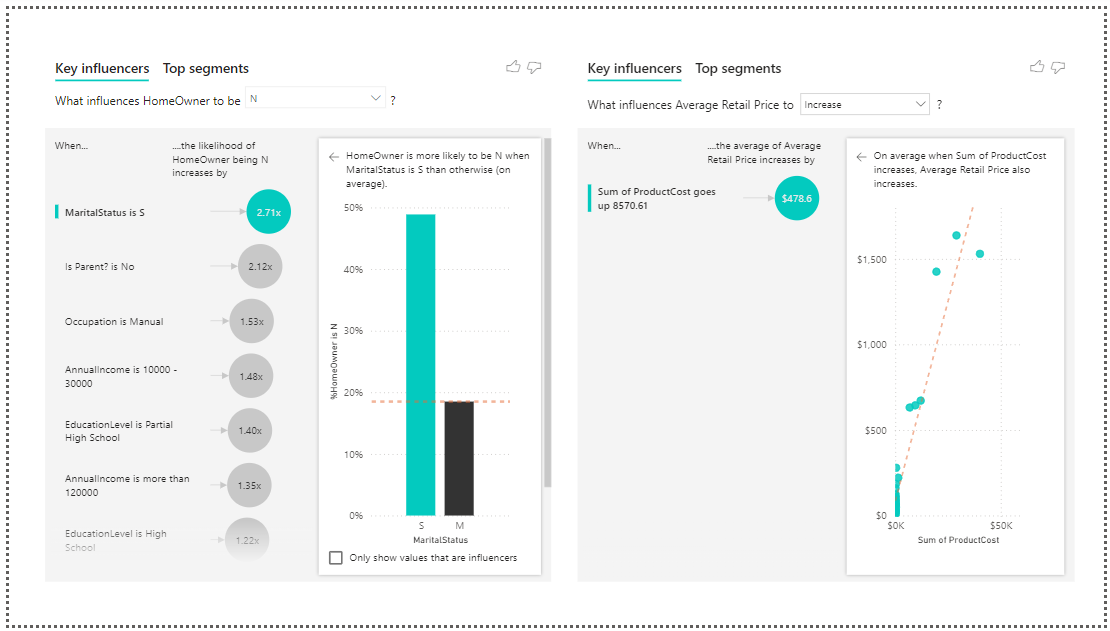

The page's visual inventory and layout, read from the dashboard file:
{"tool":"powerbi","page":{"name":"Key Influencers","canvas":[1280,720],"ordinal":7},"visuals":[{"type":"keyDriversVisual","fields":{"Target":["Customer Lookup.HomeOwner"],"ExplainBy":["Customer Lookup.AnnualIncome","Customer Lookup.EducationLevel","Customer Lookup.Is Parent?","Customer Lookup.MaritalStatus","Customer Lookup.Occupation"]},"box":[37.5,43.8,602.1,631.2],"z":0},{"type":"keyDriversVisual","fields":{"Target":["Measure Table.Average Retail Price"],"ExplainBy":["Sum(Product Lookup.ProductCost)"],"Details":["Product Subcategories Lookup.SubcategoryName"]},"box":[660.4,43.8,591.7,631.2],"z":1000}]}

Visuals, with their boxes in screenshot pixels (x1, y1, x2, y2), scaled from the page's 1280x720 canvas onto the 1110x631 screenshot:
keyDriversVisual - Customer Lookup.HomeOwner x Customer Lookup.AnnualIncome: x1=33, y1=38, x2=555, y2=592
keyDriversVisual - Measure Table.Average Retail Price x Sum(Product Lookup.ProductCost): x1=573, y1=38, x2=1086, y2=592
